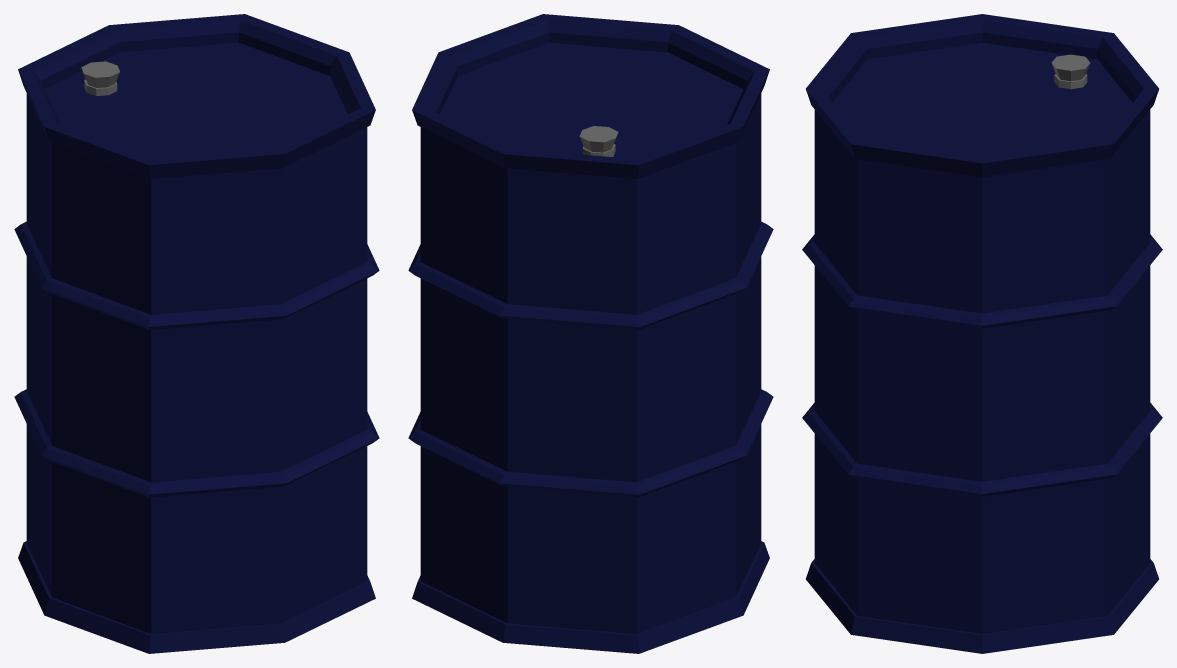
File: Barril_A01.fbx
3 views of the same model, side by side, from view 1: azimuth 30°, elevation 25°; view 2: azimuth 150°, elevation 25°; view 3: azimuth 270°, elevation 25° (orthographic).
Visible parts, largest first — view 1: Plano, Plano.001; view 2: Plano, Plano.001; view 3: Plano, Plano.001.
Part boxes in pixels (left/top/right/bottom): Plano: left=14, top=14, right=379, bottom=653; Plano.001: left=81, top=61, right=119, bottom=95; Plano: left=408, top=14, right=773, bottom=653; Plano.001: left=579, top=126, right=618, bottom=156; Plano: left=802, top=14, right=1162, bottom=653; Plano.001: left=1051, top=54, right=1090, bottom=89.
Bounding box in the file's own units: 28.52 × 42.82 × 28.52.
